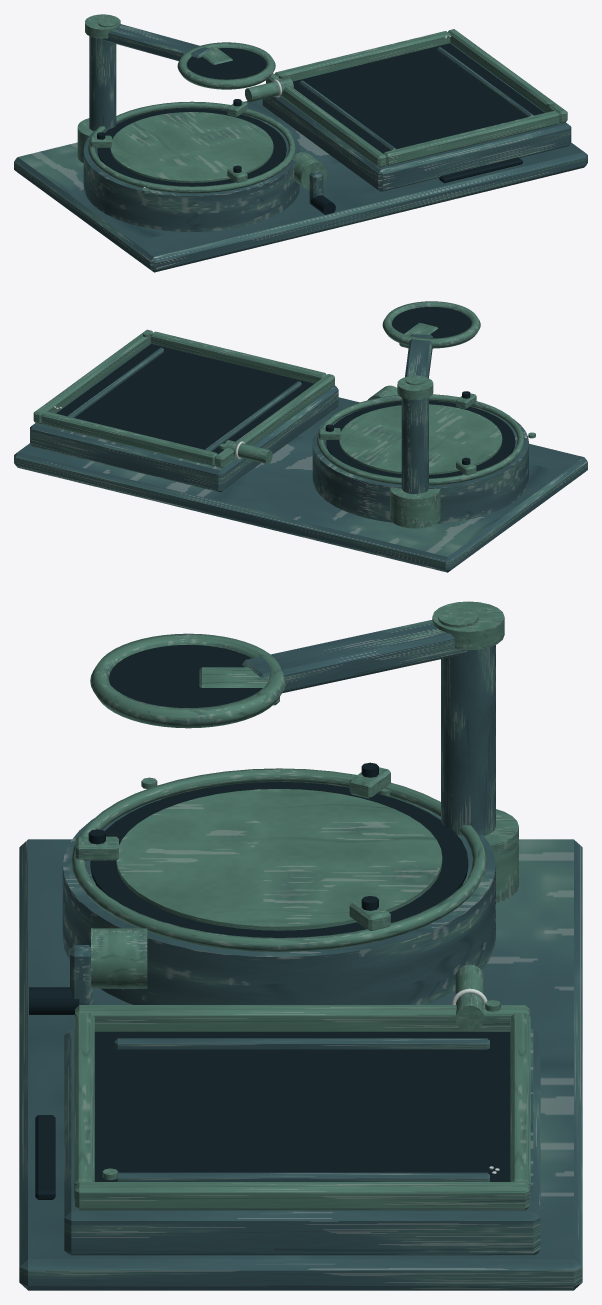
File: SM_C1_Signature_Reader.fbx
3 renders of one model, top to bottom at view 1: azimuth 30°, elevation 25°; view 2: azimuth 150°, elevation 25°; view 3: azimuth 270°, elevation 25°, orthographic. The views are drawn at different scales.
Parts seen in each view (by area): view 1: SM_C1_Signature_Reader_Casting, SM_C1_Signature_Reader_Patina, SM_C1_Signature_Reader_Recess; view 2: SM_C1_Signature_Reader_Casting, SM_C1_Signature_Reader_Patina, SM_C1_Signature_Reader_Recess; view 3: SM_C1_Signature_Reader_Casting, SM_C1_Signature_Reader_Patina, SM_C1_Signature_Reader_Recess.
Boxes of the visible parts, <box> form: SM_C1_Signature_Reader_Casting: <box>14,24,587,272</box>; SM_C1_Signature_Reader_Patina: <box>77,14,567,193</box>; SM_C1_Signature_Reader_Recess: <box>97,43,544,214</box>; SM_C1_Signature_Reader_Casting: <box>14,334,587,572</box>; SM_C1_Signature_Reader_Patina: <box>33,301,535,528</box>; SM_C1_Signature_Reader_Recess: <box>56,307,515,478</box>; SM_C1_Signature_Reader_Casting: <box>19,620,582,1290</box>; SM_C1_Signature_Reader_Patina: <box>71,601,530,1210</box>; SM_C1_Signature_Reader_Recess: <box>29,644,510,1199</box>.
Bounding box in the file's own units: 70 × 24 × 39.
4 materials, 2 textured.
